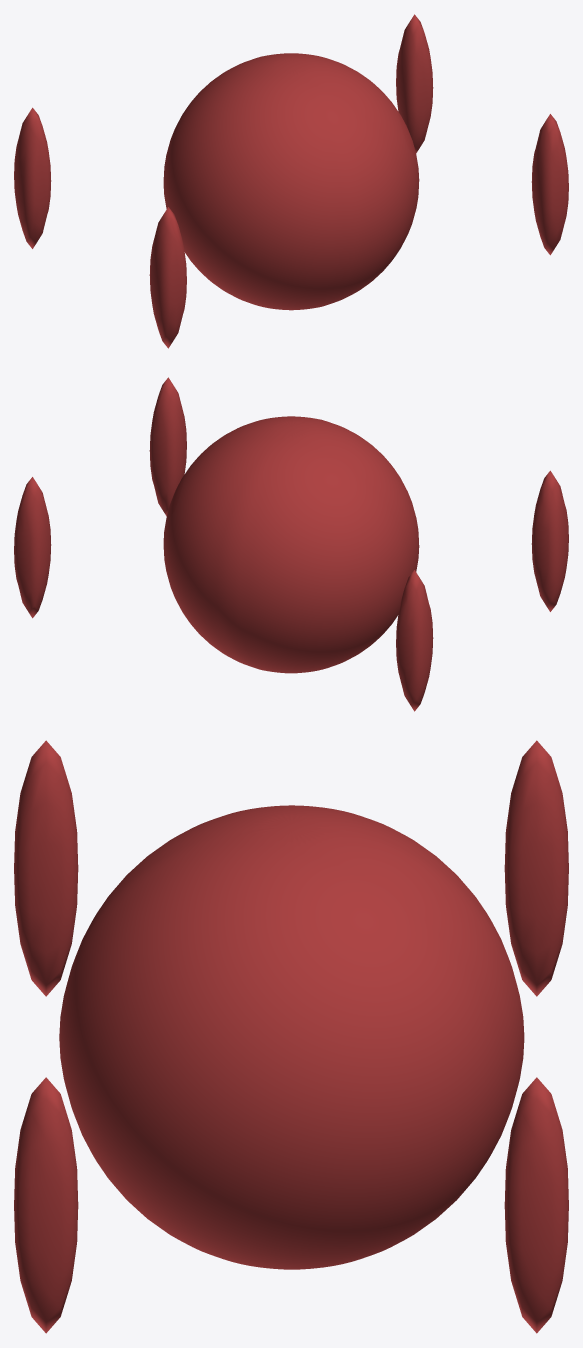
Rendered from SmallCanonV2Part1.fbx.
3 views of the same model, one above another, from view 1: azimuth 30°, elevation 25°; view 2: azimuth 150°, elevation 25°; view 3: azimuth 270°, elevation 25° (orthographic). The views are drawn at different scales.
Visible parts, largest first — view 1: Small Canon; view 2: Small Canon; view 3: Small Canon.
Boxes of the visible parts, box(x1,y1,x2,y2) form: Small Canon: box(14, 14, 568, 348); Small Canon: box(14, 377, 568, 711); Small Canon: box(14, 740, 568, 1333).
Bounding box in the file's own units: 12.1 × 6.6 × 7.87.
